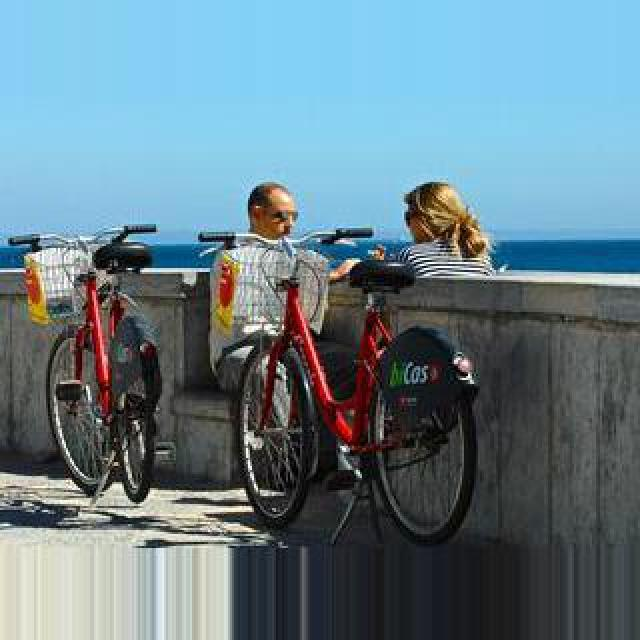MC-Bike: (320, 178, 492, 430), (208, 184, 332, 412)
Person: (225, 237, 481, 541), (22, 224, 162, 502)
